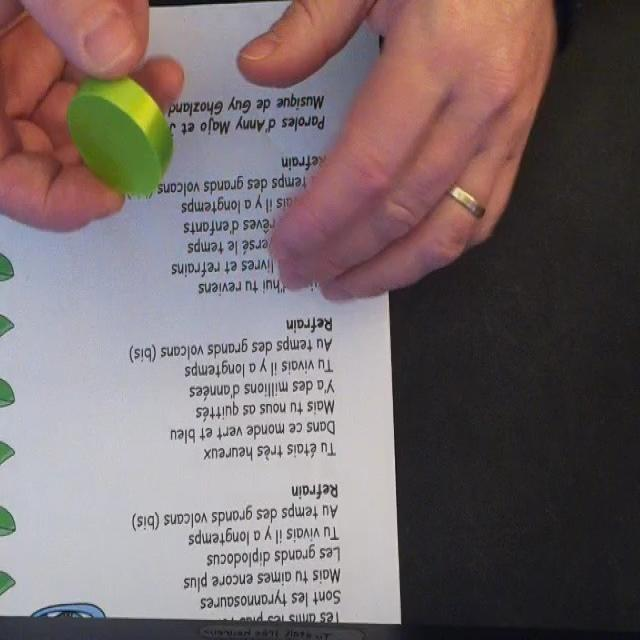round: (67, 70, 173, 197)
